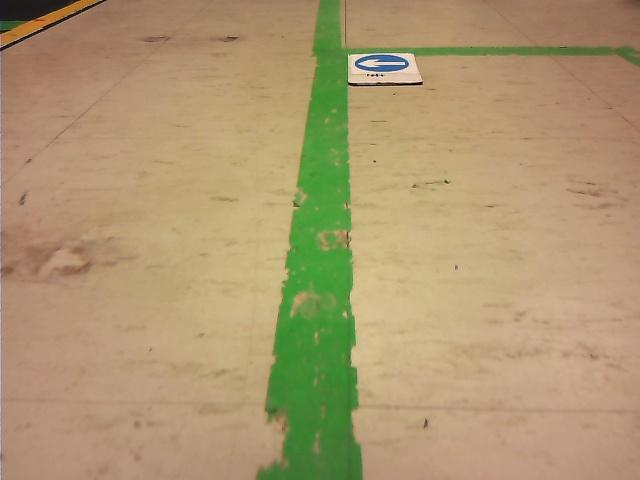TURN LEFT: (355, 54, 408, 71)
